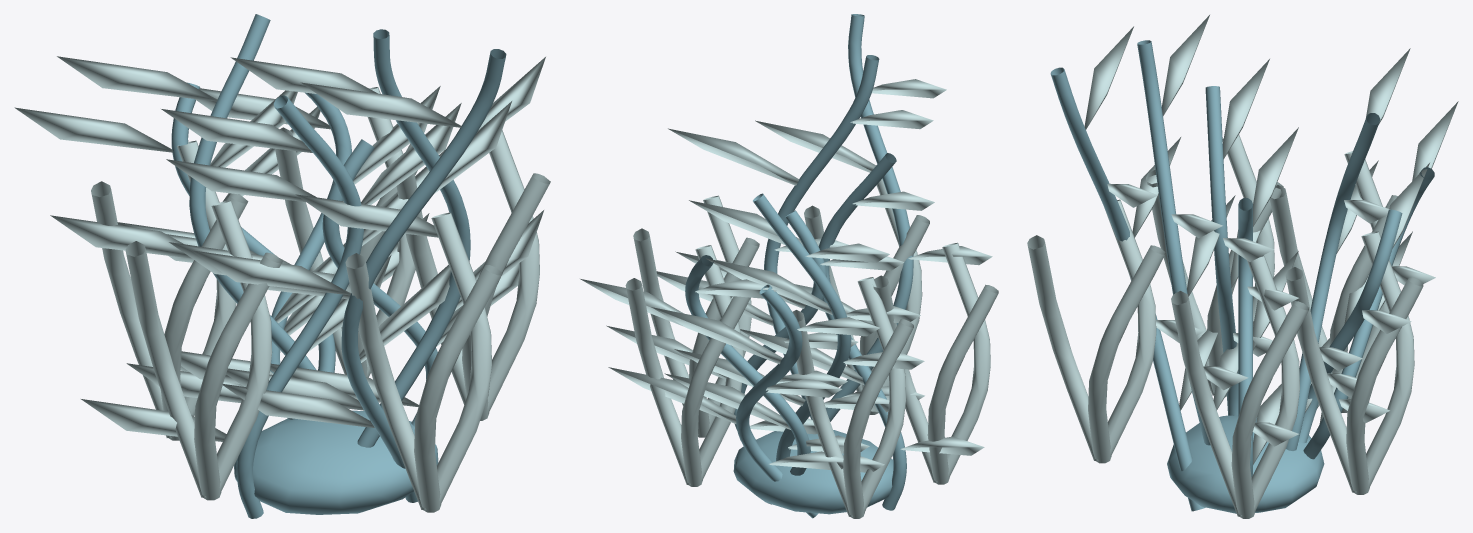
File: bio_aquatic_frond_04_far.glb
3 views of the same model, side by side, from view 1: azimuth 30°, elevation 25°; view 2: azimuth 150°, elevation 25°; view 3: azimuth 270°, elevation 25° (orthographic). The views are drawn at different scales.
Visible parts, largest first — view 1: Spiral filament.006, Spiral filament.012, Holdfast, Ruffled aquatic blade.010, Spiral filament, Ruffled aquatic blade.020, Ruffled aquatic blade.025, Ruffled aquatic blade.005, Spiral filament.003, Flexible stipe.002, Flexible stipe.004, Ruffled aquatic blade (+8 smaller); view 2: Spiral filament.003, Spiral filament.012, Spiral filament.009, Ruffled aquatic blade.030, Holdfast, Ruffled aquatic blade.020, Spiral filament, Ruffled aquatic blade.005, Ruffled aquatic blade.025, Ruffled aquatic blade.015, Flexible stipe.002, Ruffled aquatic blade.010 (+8 smaller); view 3: Spiral filament.006, Spiral filament, Spiral filament.009, Holdfast, Flexible stipe.002, Ruffled aquatic blade.025, Ruffled aquatic blade, Flexible stipe.004, Spiral filament.003, Flexible stipe.001, Ruffled aquatic blade.010, Flexible stipe.005 (+8 smaller).
Part boxes in pixels (left/top/right/bottom): Spiral filament.006: left=345, top=212, right=502, bottom=512; Spiral filament.012: left=125, top=200, right=282, bottom=500; Holdfast: left=234, top=410, right=438, bottom=514; Ruffled aquatic blade.010: left=190, top=82, right=511, bottom=427; Spiral filament: left=396, top=130, right=550, bottom=420; Ruffled aquatic blade.020: left=81, top=103, right=461, bottom=441; Ruffled aquatic blade.025: left=226, top=57, right=545, bottom=410; Ruffled aquatic blade.005: left=50, top=56, right=345, bottom=383; Spiral filament.003: left=91, top=140, right=248, bottom=440; Flexible stipe.002: left=341, top=49, right=506, bottom=502; Flexible stipe.004: left=236, top=95, right=363, bottom=518; Ruffled aquatic blade: left=166, top=149, right=519, bottom=406; Spiral filament.003: left=792, top=277, right=913, bottom=518; Spiral filament.012: left=873, top=242, right=998, bottom=484; Spiral filament.009: left=625, top=245, right=750, bottom=486; Ruffled aquatic blade.030: left=608, top=307, right=879, bottom=469; Holdfast: left=733, top=430, right=893, bottom=514; Ruffled aquatic blade.020: left=689, top=191, right=984, bottom=455; Spiral filament: left=633, top=195, right=759, bottom=437; Ruffled aquatic blade.005: left=674, top=243, right=924, bottom=453; Ruffled aquatic blade.025: left=656, top=110, right=933, bottom=412; Ruffled aquatic blade.015: left=580, top=279, right=884, bottom=472; Flexible stipe.002: left=826, top=14, right=913, bottom=421; Ruffled aquatic blade.010: left=755, top=79, right=992, bottom=400; Spiral filament.006: left=1027, top=199, right=1165, bottom=463; Spiral filament: left=1171, top=255, right=1308, bottom=518; Spiral filament.009: left=1285, top=231, right=1423, bottom=494; Holdfast: left=1167, top=415, right=1324, bottom=513; Flexible stipe.002: left=1050, top=67, right=1205, bottom=511; Ruffled aquatic blade.025: left=1161, top=15, right=1253, bottom=410; Ruffled aquatic blade: left=1247, top=127, right=1298, bottom=464; Flexible stipe.004: left=1205, top=86, right=1238, bottom=415; Spiral filament.003: left=1270, top=151, right=1397, bottom=412; Flexible stipe.001: left=1286, top=113, right=1380, bottom=450; Ruffled aquatic blade.010: left=1084, top=26, right=1217, bottom=410; Flexible stipe.005: left=1137, top=40, right=1210, bottom=445.
Size of the model in its own units: 1.79 by 1.89 by 1.64.
